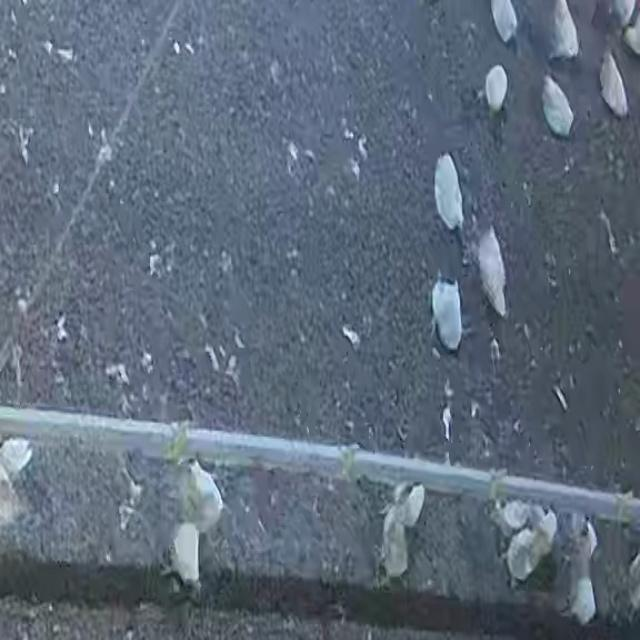chicken: (170, 454, 226, 534), (473, 224, 509, 319), (528, 1, 580, 64), (431, 273, 465, 349), (433, 151, 465, 231), (166, 520, 202, 591), (564, 541, 596, 619), (540, 72, 576, 136), (381, 502, 408, 581), (599, 50, 629, 116), (505, 528, 540, 579), (490, 0, 519, 45), (484, 64, 509, 114)
